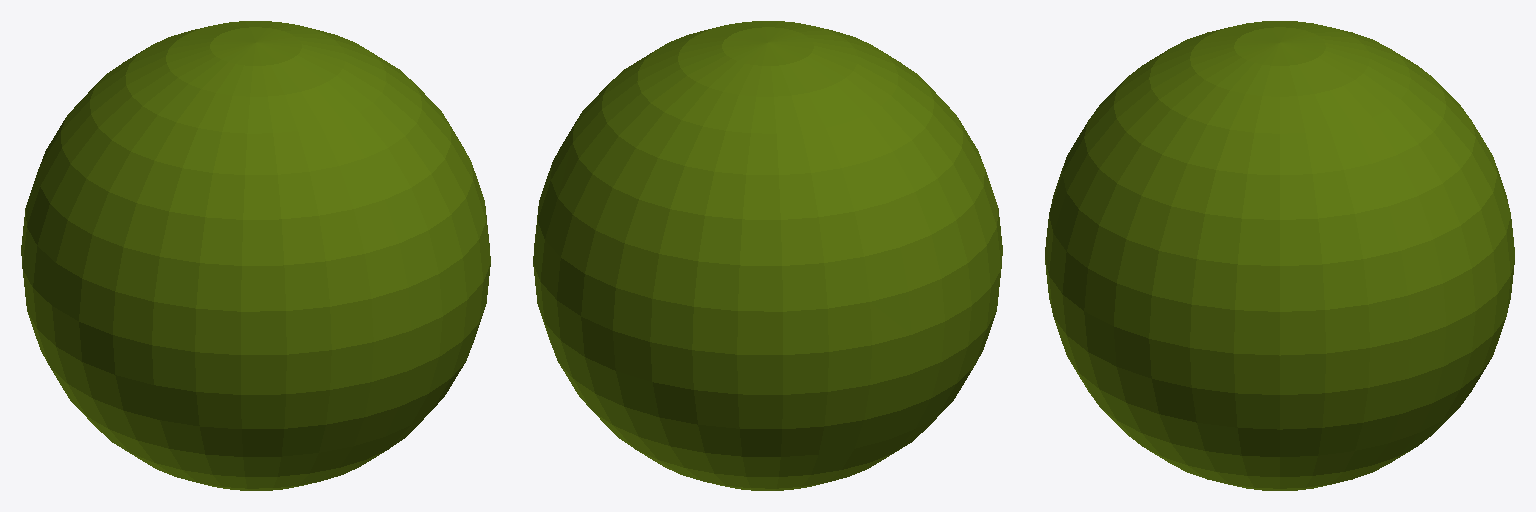
File: basketball_old.obj
3 renders of one model, left to right at view 1: azimuth 30°, elevation 25°; view 2: azimuth 150°, elevation 25°; view 3: azimuth 270°, elevation 25°, orthographic.
Visible parts, largest first — view 1: Basketball; view 2: Basketball; view 3: Basketball.
Part boxes in pixels (x1,y1,x2,y2): Basketball: (21,21,490,490); Basketball: (533,21,1002,490); Basketball: (1045,21,1514,490).
Size of the model in its own units: 39.37 by 39.37 by 39.37.